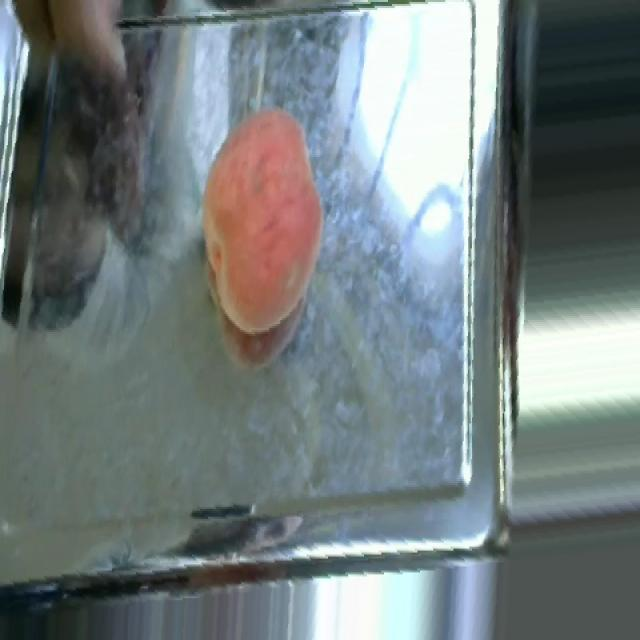Fruit: (185, 99, 332, 346)
